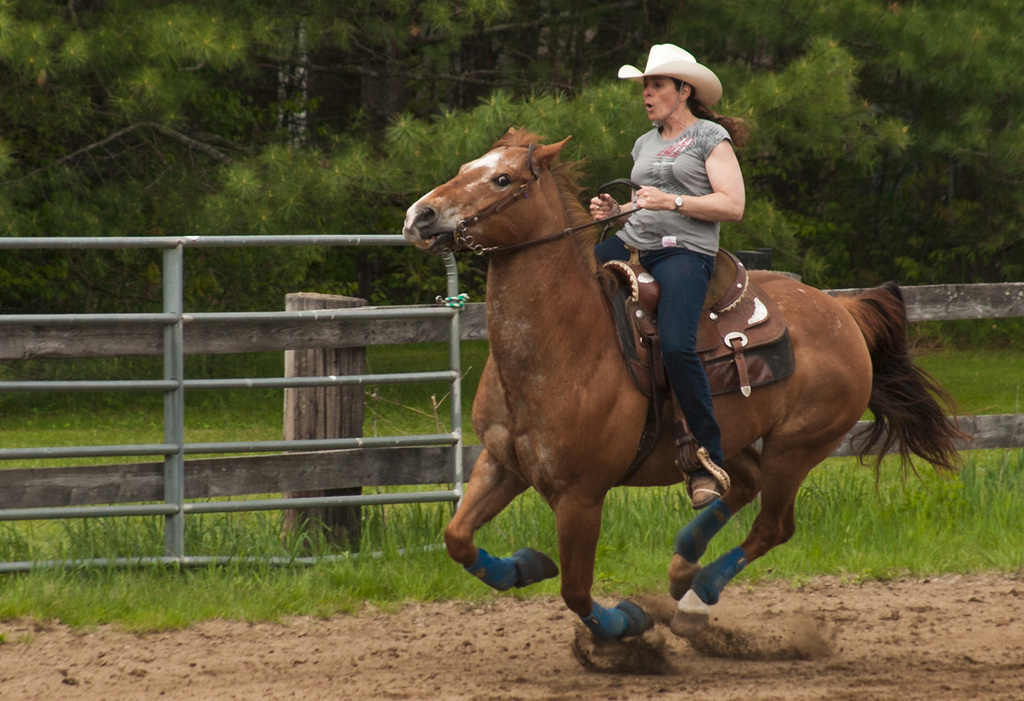horse: (402, 124, 972, 642)
